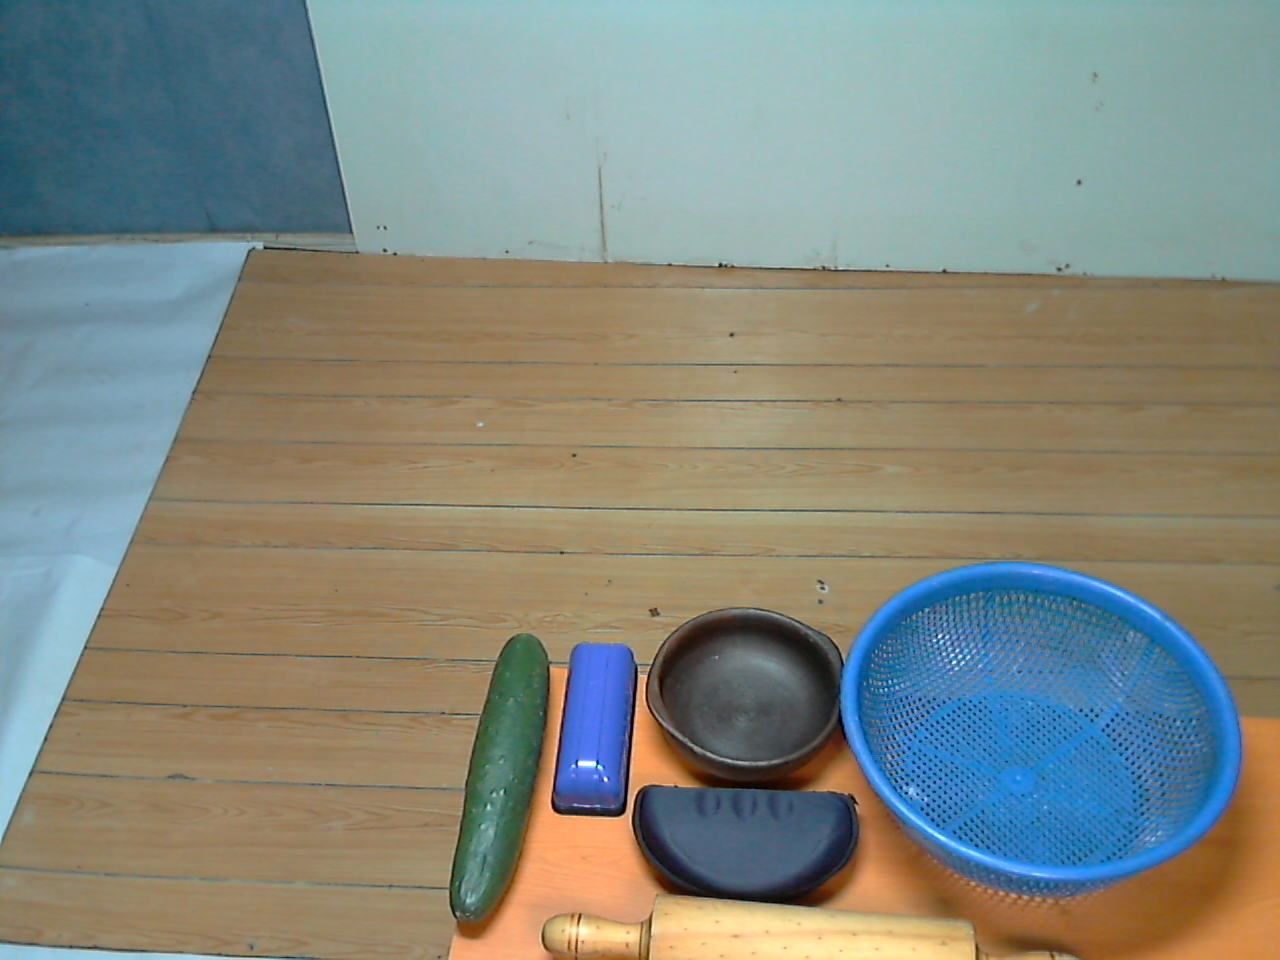borrador: (541, 636, 644, 825)
colador: (830, 553, 1248, 908)
estuche: (624, 775, 870, 909)
greda: (643, 601, 864, 787)
pepino: (442, 628, 564, 935)
uslero: (533, 892, 1110, 960)
